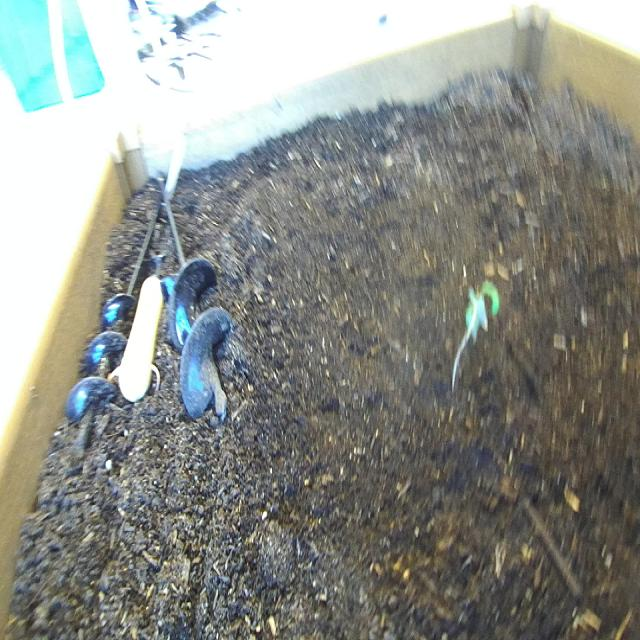Healthy: (445, 260, 508, 410)
